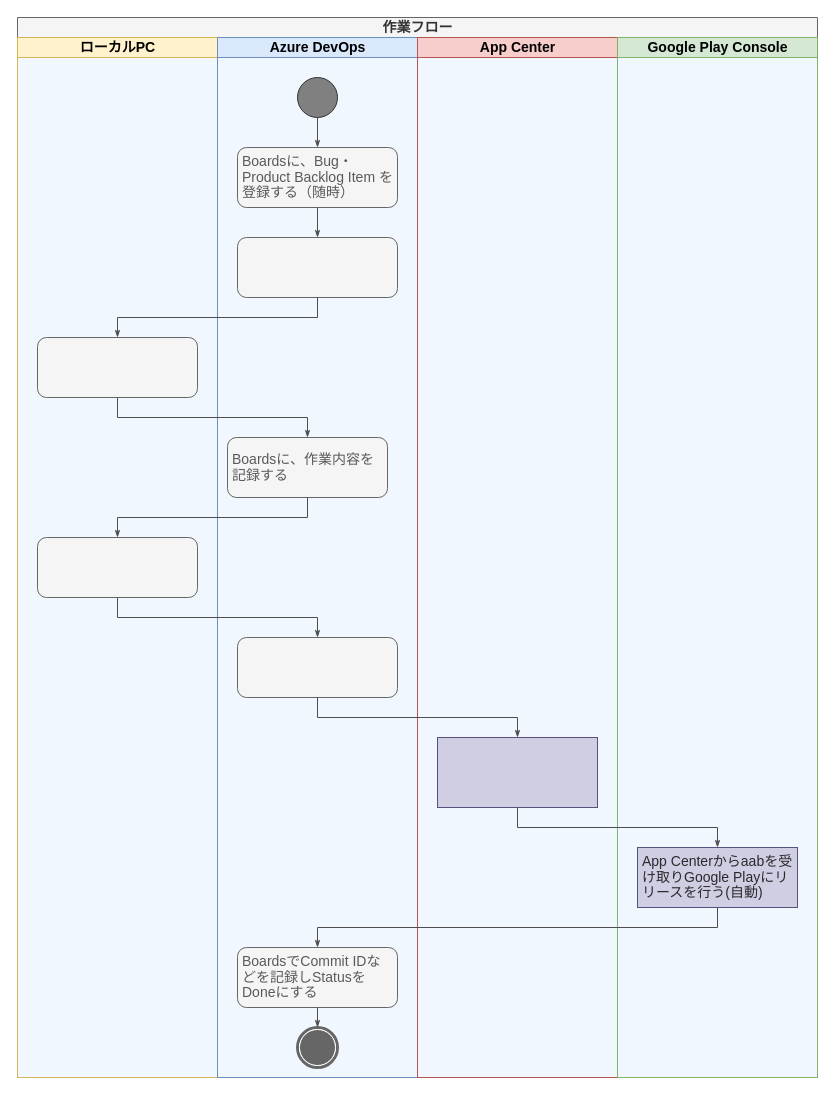
Image size: 835x1095. Some labels were removed from this diagram. Here are the shapes that lost their labels. From the top down, the box of each, then its label:
(236, 236, 398, 298): 優先度を整理し、次回リリース対象をBoardsのSprintsに登録する
(36, 336, 198, 398): Visual Studio等で開発を行う
(36, 536, 198, 598): ローカルGitから、Azure DevOps ReposにPushする
(236, 636, 398, 698): Reposでmainブランチに開発ブランチをマージする
(436, 736, 598, 808): Azure DevOpsのmainブランチのコミットを検知しBuild＆Distributeを行う（自動）
